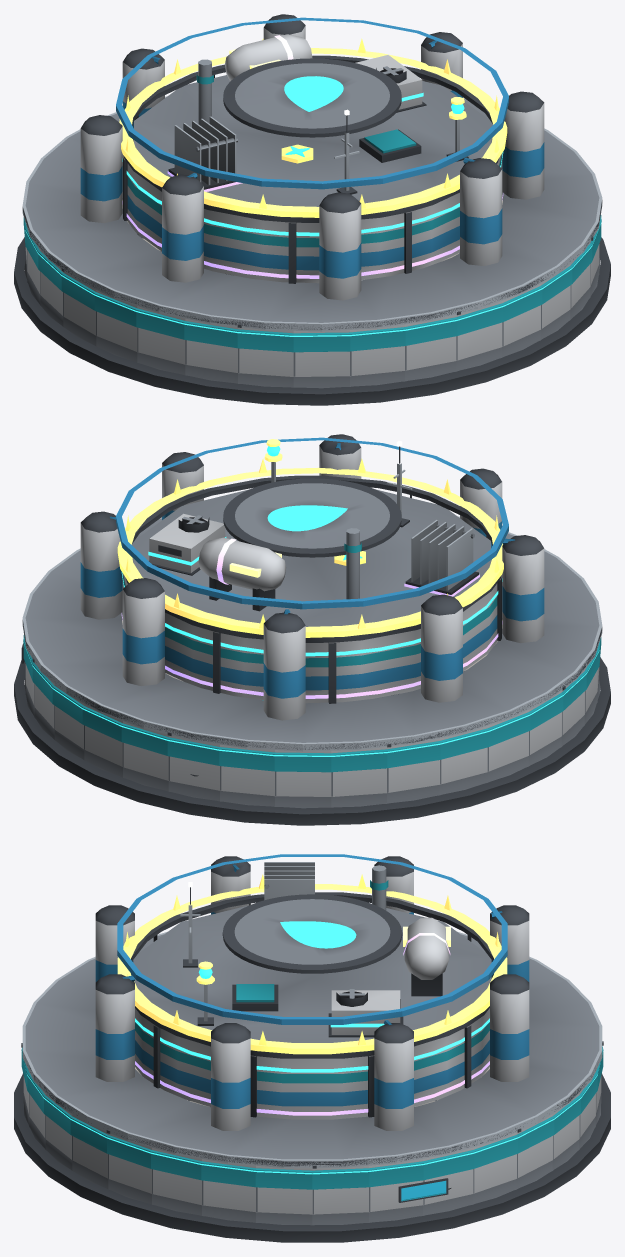
The model's file is water_recycler.glb.
The picture shows the model from 3 angles, top to bottom: view 1: azimuth 30°, elevation 25°; view 2: azimuth 150°, elevation 25°; view 3: azimuth 270°, elevation 25°; orthographic projection.
Visible parts, largest first — view 1: Roof, Base, L5, L4, Wall_21, Wall_20, Wall_22, Wall_19, Wall_23, Wall_18, Wall_24, L3 (+13 smaller); view 2: Roof, Base, L4, L5, L3, Wall_10, Wall_11, Wall_09, Wall_12, Wall_08, Wall_13, Wall_07 (+11 smaller); view 3: Roof, Base, L5, L4, L3, Wall_00, Wall_31, Wall_30, Wall_29, Wall_01, Wall_28, Wall_03 (+9 smaller).
Part boxes in pixels (x1,y1,x2,y2): Roof: [25, 14, 599, 322]; Base: [14, 198, 610, 405]; L5: [119, 38, 507, 217]; L4: [122, 34, 503, 278]; Wall_21: [293, 330, 350, 388]; Wall_20: [237, 324, 293, 387]; Wall_22: [350, 324, 405, 386]; Wall_19: [184, 318, 237, 383]; Wall_23: [405, 315, 457, 381]; Wall_18: [136, 306, 185, 375]; Wall_24: [456, 301, 503, 371]; L3: [122, 55, 503, 236]; Roof: [25, 434, 599, 742]; Base: [14, 618, 610, 825]; L4: [121, 520, 502, 698]; L5: [117, 439, 503, 637]; L3: [121, 513, 502, 656]; Wall_10: [274, 750, 331, 808]; Wall_11: [331, 747, 387, 807]; Wall_09: [219, 744, 274, 806]; Wall_12: [387, 738, 440, 803]; Wall_08: [167, 732, 219, 801]; Wall_13: [439, 726, 488, 795]; Wall_07: [121, 721, 168, 791]; Roof: [25, 854, 599, 1159]; Base: [14, 1067, 610, 1242]; L5: [117, 874, 507, 1054]; L4: [135, 862, 489, 1115]; L3: [135, 989, 489, 1072]; Wall_00: [312, 1165, 369, 1225]; Wall_31: [255, 1165, 312, 1225]; Wall_30: [201, 1159, 255, 1222]; Wall_29: [151, 1147, 201, 1215]; Wall_01: [369, 1159, 423, 1222]; Wall_28: [106, 1129, 151, 1204]; Wall_03: [473, 1132, 518, 1204].
Size of the model in its own units: 11.74 by 4.79 by 11.74.
